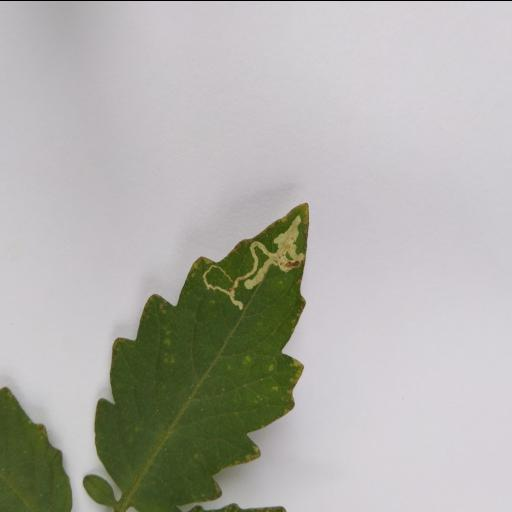Leaf Miner: (95, 200, 312, 512)
